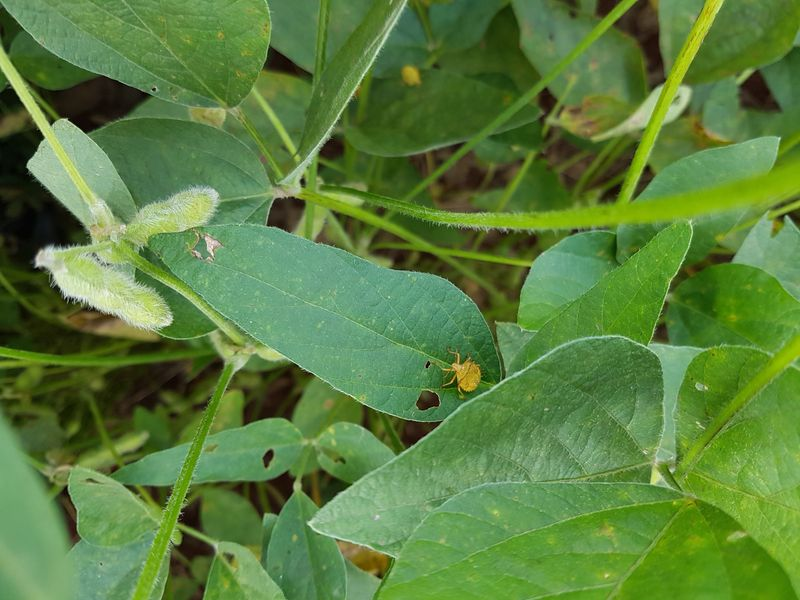Euschistus_heros_ninfa: (428, 347, 489, 402)
